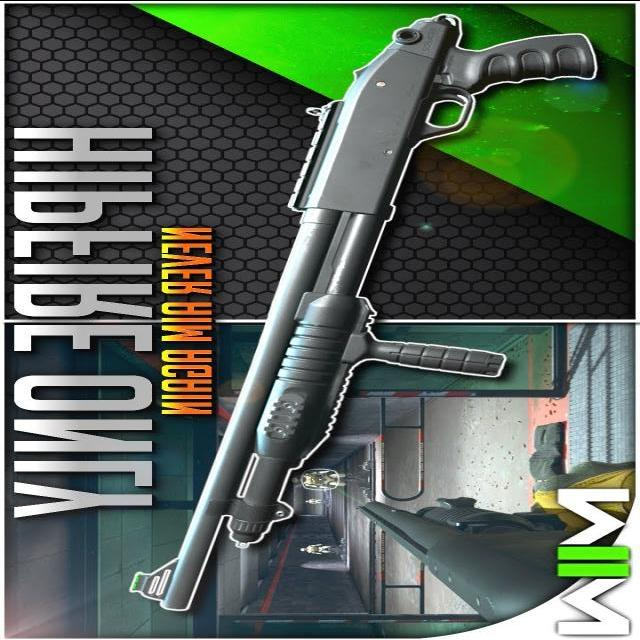shotgun: (126, 17, 632, 630)
